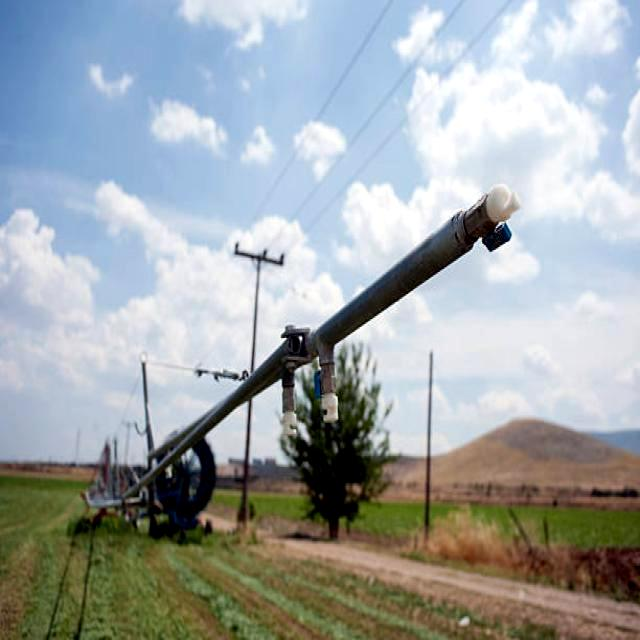Broken Pole: (119, 187, 531, 547)
